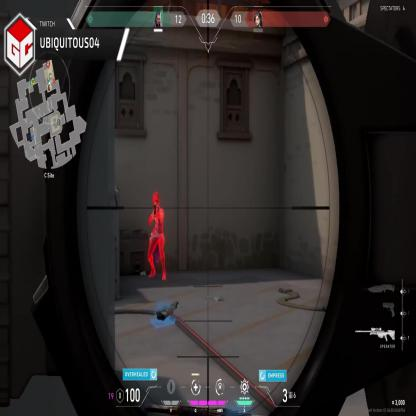enemy: (146, 192, 165, 279)
enemy_head: (152, 192, 160, 210)
